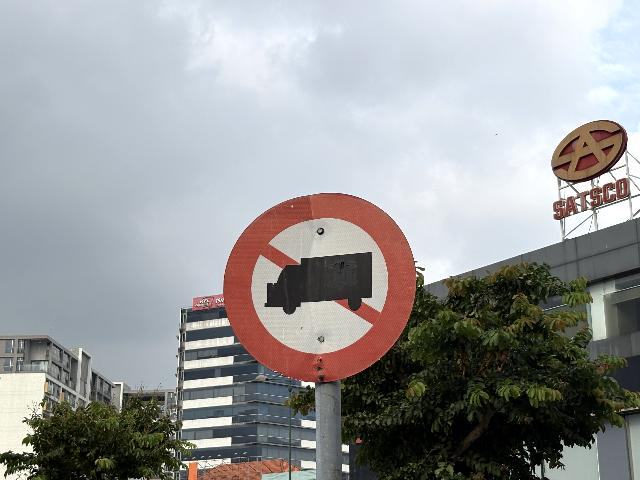cam-xe-tai: (224, 191, 417, 383)
